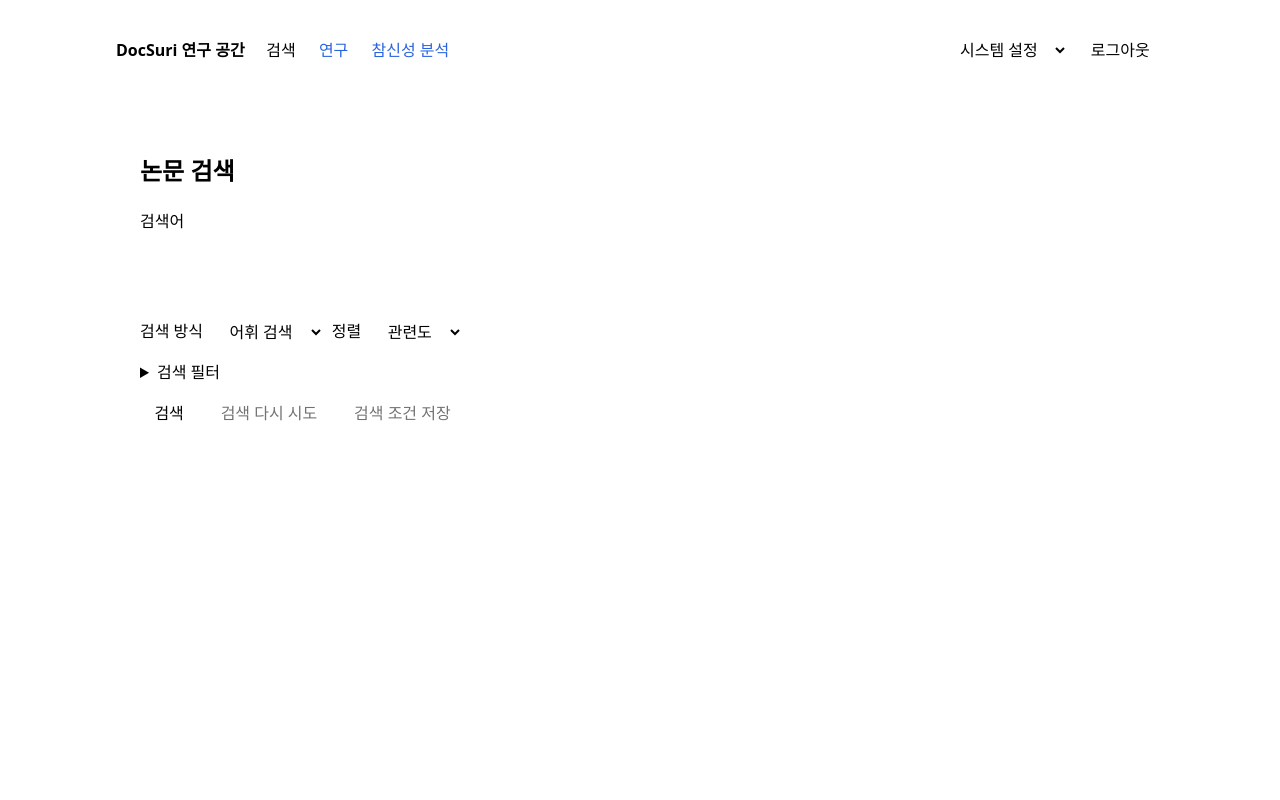
shared shell research contribution › mounts degraded research and novelty with explicit capability and synthetic limitations
Click the button with test id "nav-research" at (334,50), box [309,30,358,70]
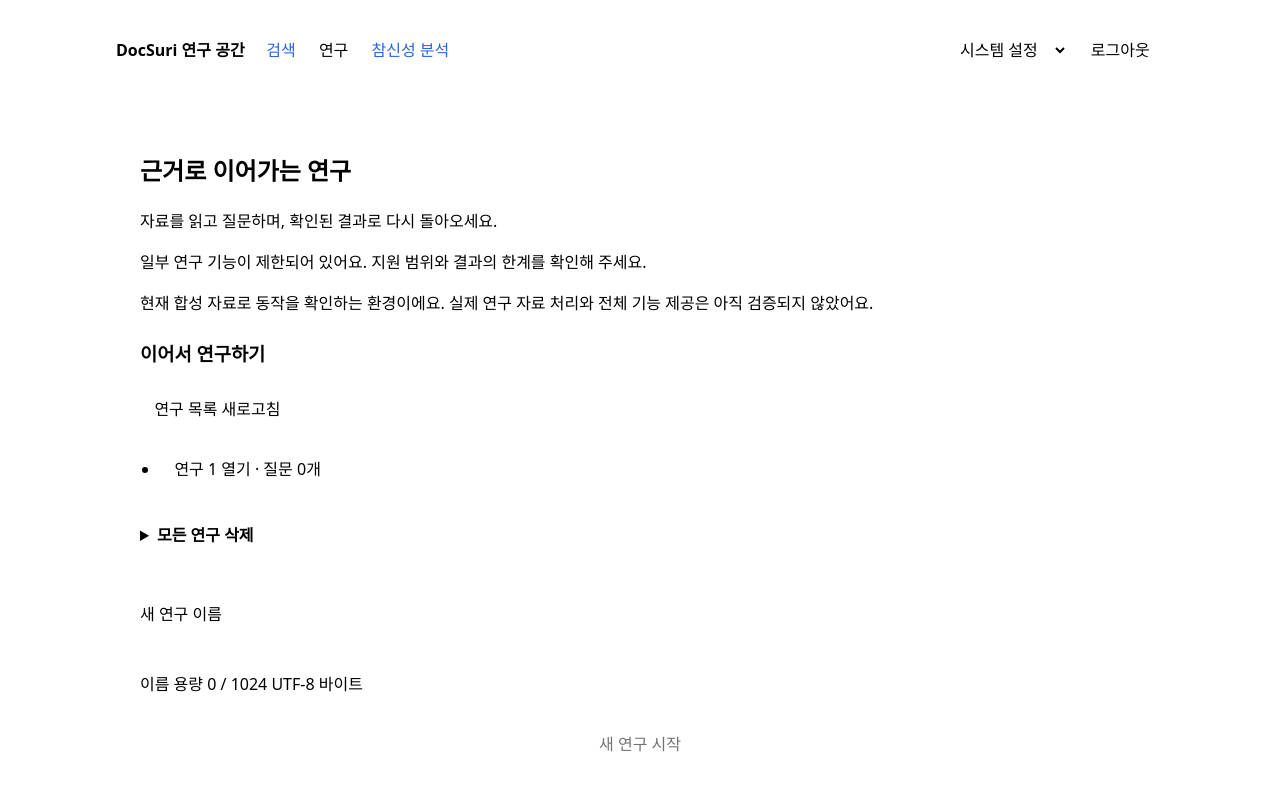
Expected: the element with test id "workspace-research" is shown
Expected: the text "일부 연구 기능이 제한되어 있어요. 지원 범위와 결과의 한계를 확인해 주세요." is shown, [140,251,646,273]
Expected: the text "현재 합성 자료로 동작을 확인" is shown, [140,292,873,314]
Click the button with test id "nav-novelty" at (410,50), box [362,30,459,70]
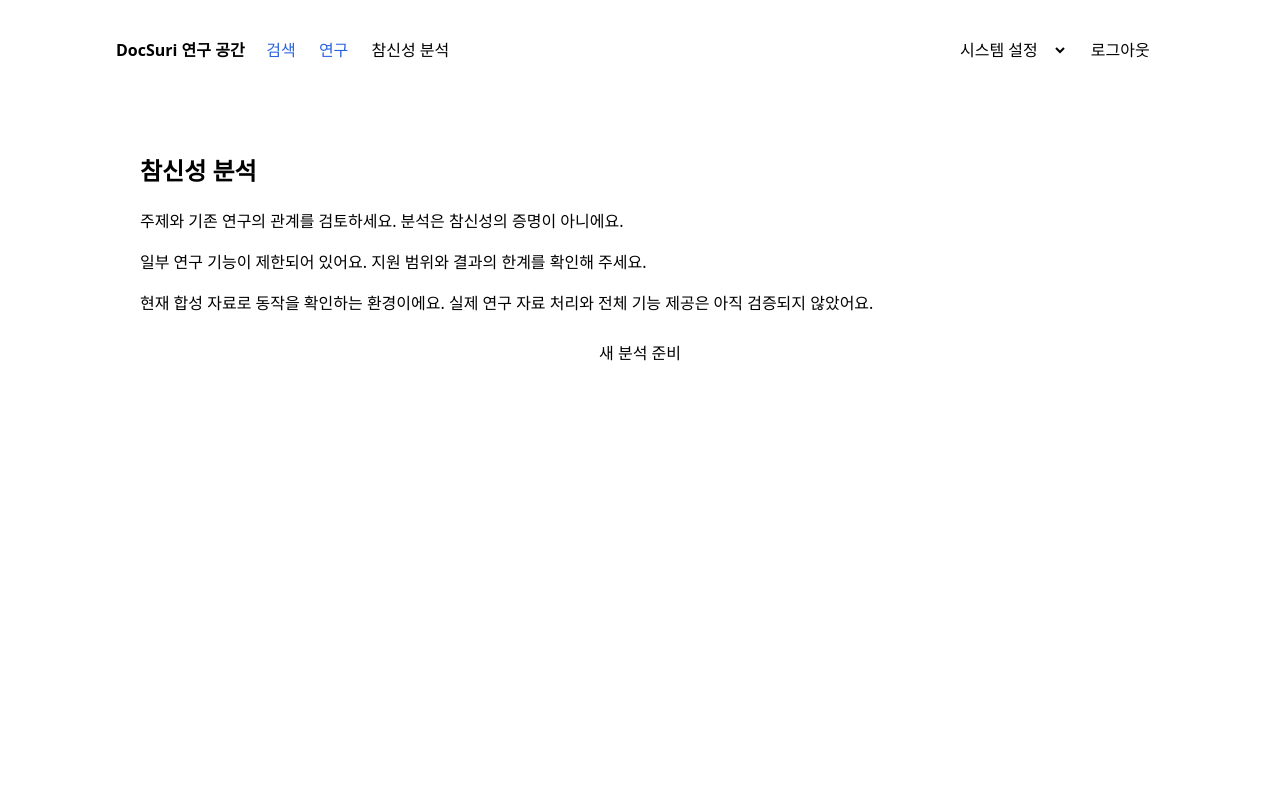
Expected: the text "일부 연구 기능이 제한되어 있어요. 지원 범위와 결과의 한계를 확인해 주세요." is shown, [140,251,646,273]
Expected: the element with test id "workspace-novelty" is shown, [116,108,1164,399]
